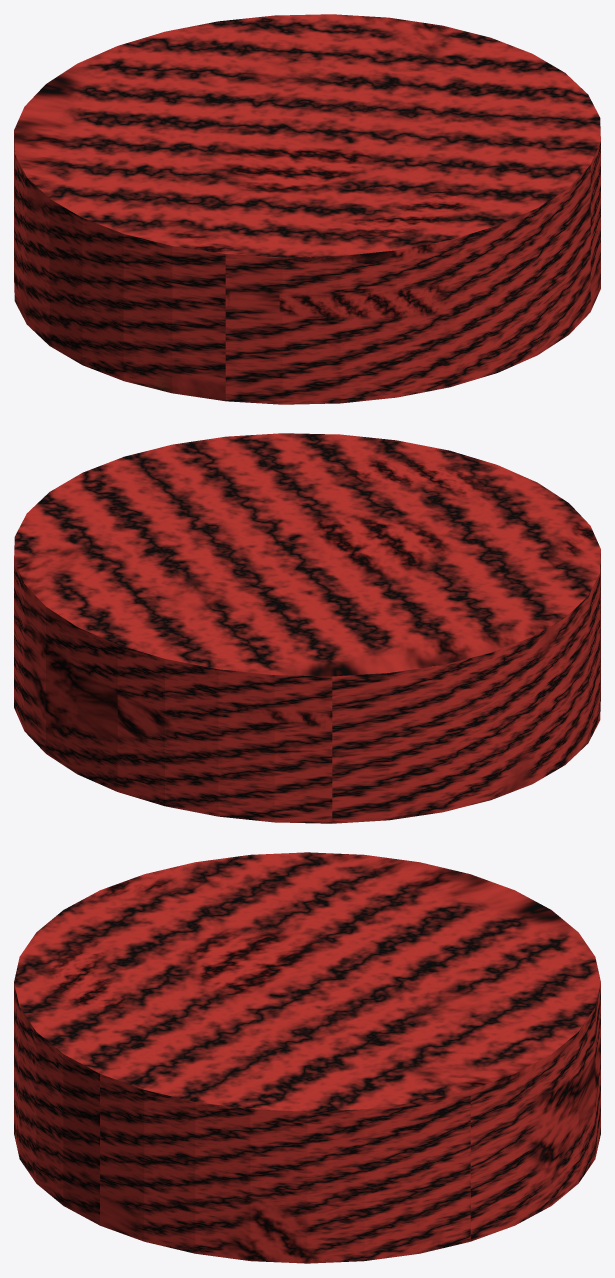
The model's file is bullet.obj.
3 views of the same model, one above another, from view 1: azimuth 30°, elevation 25°; view 2: azimuth 150°, elevation 25°; view 3: azimuth 270°, elevation 25° (orthographic). The views are drawn at different scales.
Visible parts, largest first — view 1: 円柱; view 2: 円柱; view 3: 円柱.
Part boxes in pixels (x1=…): 円柱: x1=14, y1=14, x2=600, y2=404; 円柱: x1=14, y1=433, x2=600, y2=823; 円柱: x1=14, y1=852, x2=600, y2=1263.
Size of the model in its own units: 4.14 by 1.13 by 3.96.
Materials: 1 (1 with a texture image).
